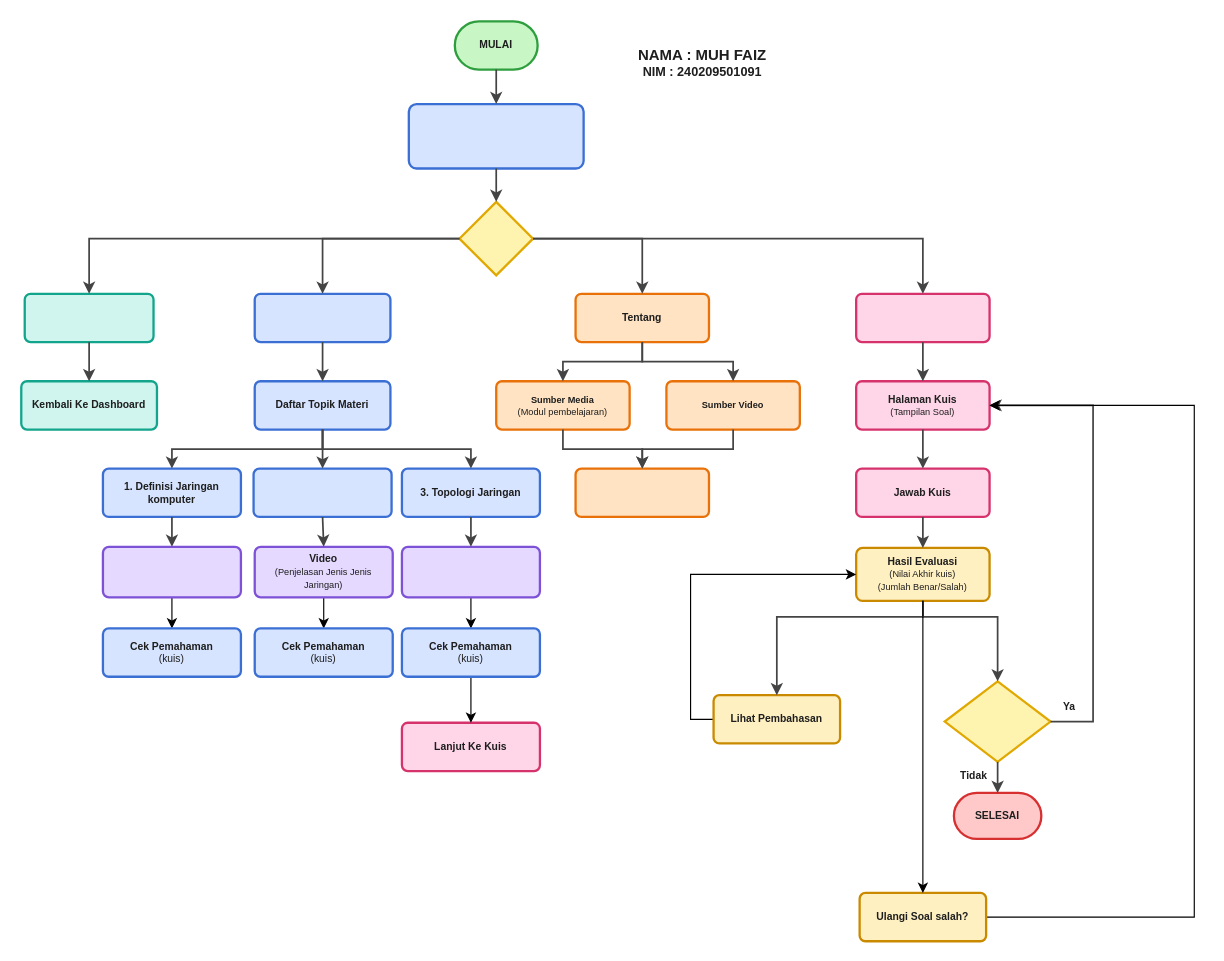
This 1224x961 diagram has some shape labels left out. Each missing label, with the centre of its shape:
2. Jenis Jenis Jaringan: (322,492)
Dashboard (Menu Utama Media Pembelajaran): (495,135)
Kuis: (922,317)
Materi (Jaringan Komputer): (322,317)
Mulai belajar: (642,492)
Petunjuk (Cara penggunaan media): (88,317)
Pilih Menu: (496,238)
Ulangi Kuis?: (997,721)
Video (Penjelasan Jaringan Komputer): (171,571)
Video (Penjelasan Topologi Jaringan): (470,571)
